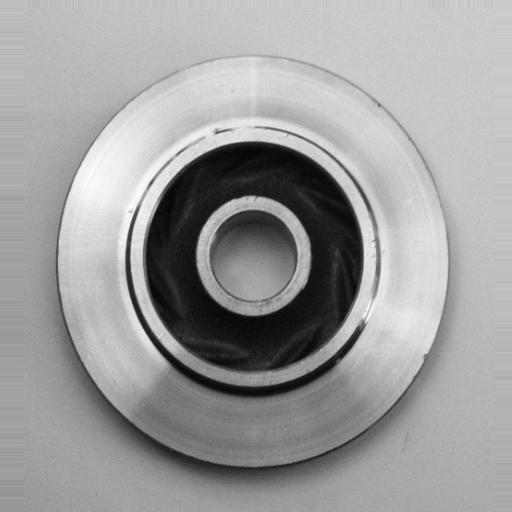scratch: (184, 114, 265, 145), (355, 274, 386, 342)
unpolished_casting: (57, 51, 454, 473)
